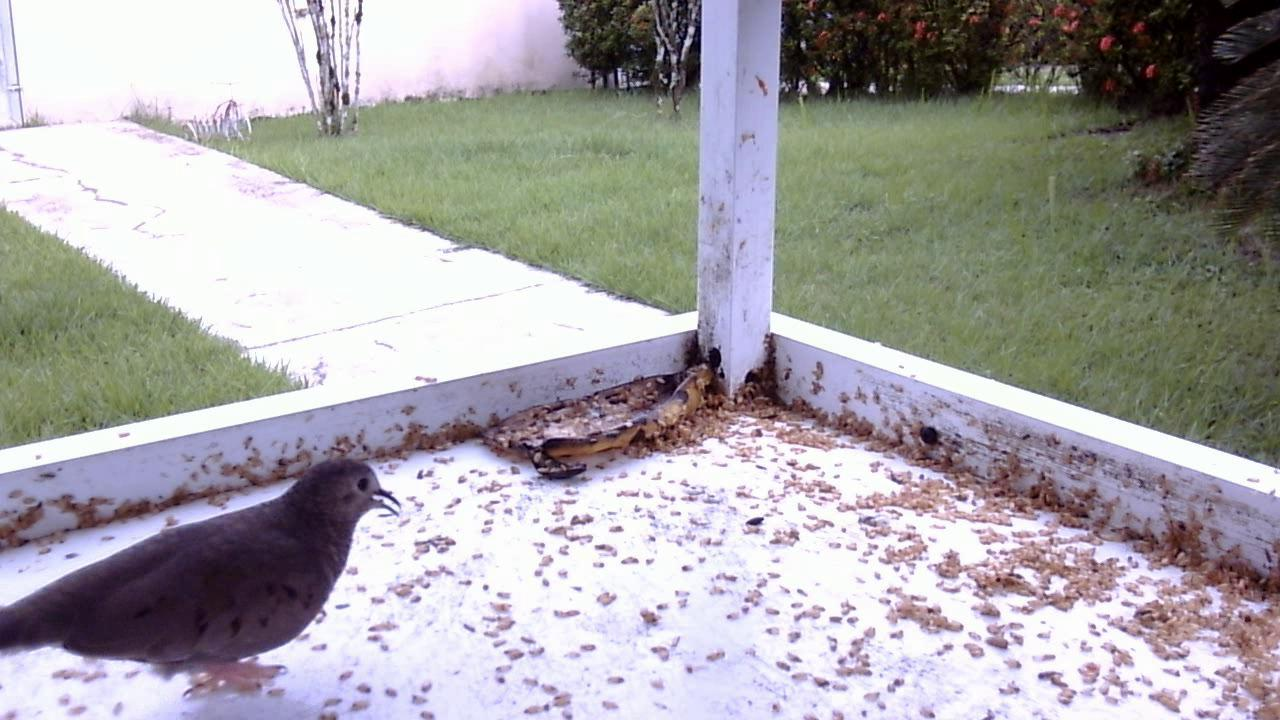rolinha: (3, 455, 413, 702)
